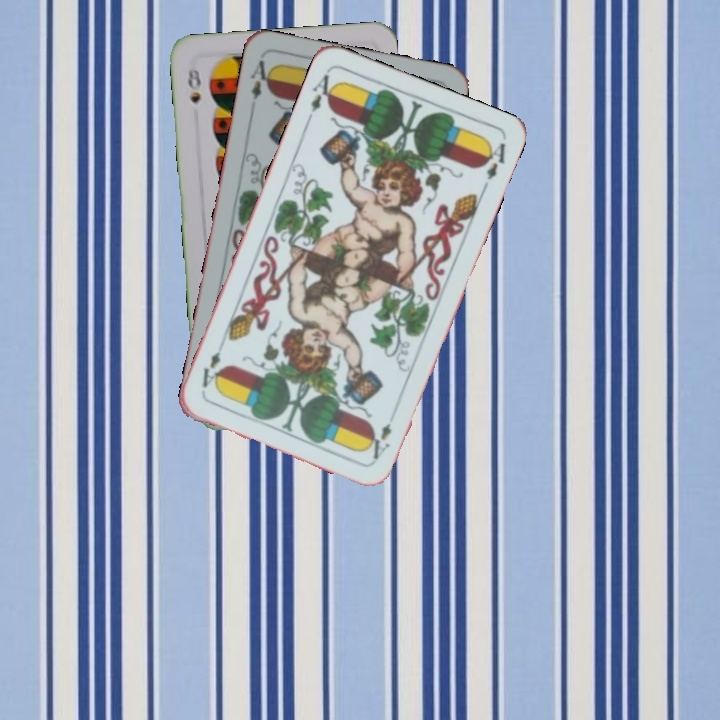EA: (306, 67, 340, 115), (246, 56, 275, 102), (364, 419, 395, 462)
S8: (184, 64, 204, 106)
